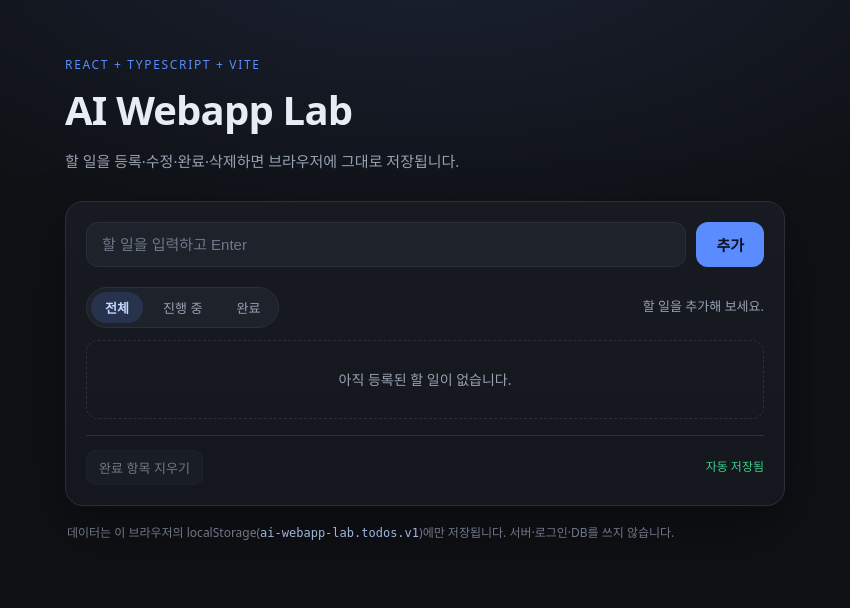
AI Webapp Lab — 할 일 관리 › 할 일을 삭제하면 목록과 localStorage에서 사라진다
Type "남길 일" into the field with test id "todo-input" at (386, 244), box [86,222,686,266]
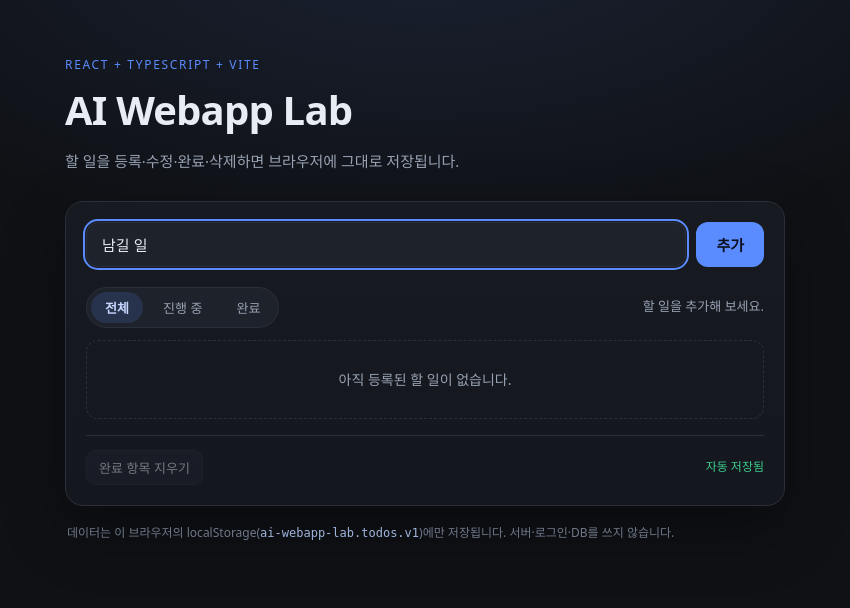
Click the button with test id "todo-add" at (730, 244), box [696,222,764,266]
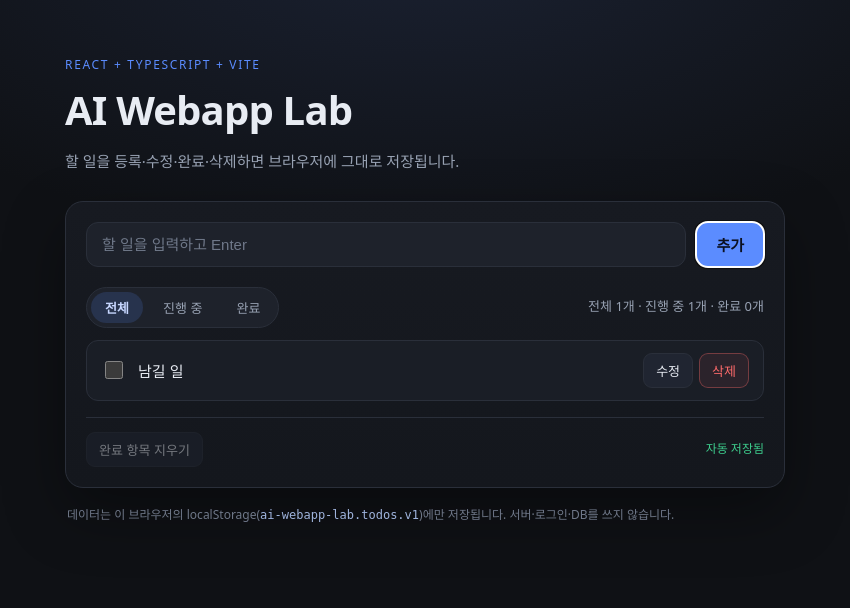
Type "지울 일" into the field with test id "todo-input" at (386, 244), box [86,222,686,266]
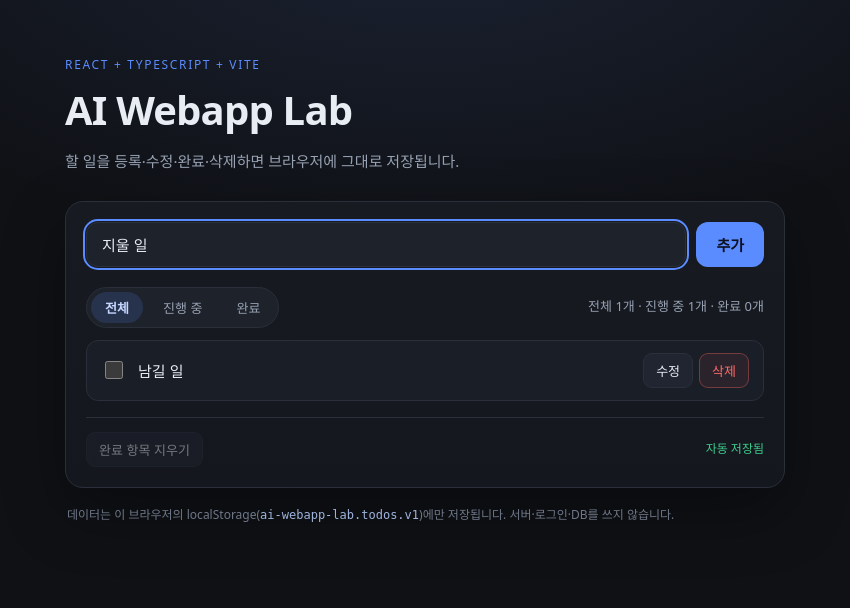
Click the button with test id "todo-add" at (730, 244), box [696,222,764,266]
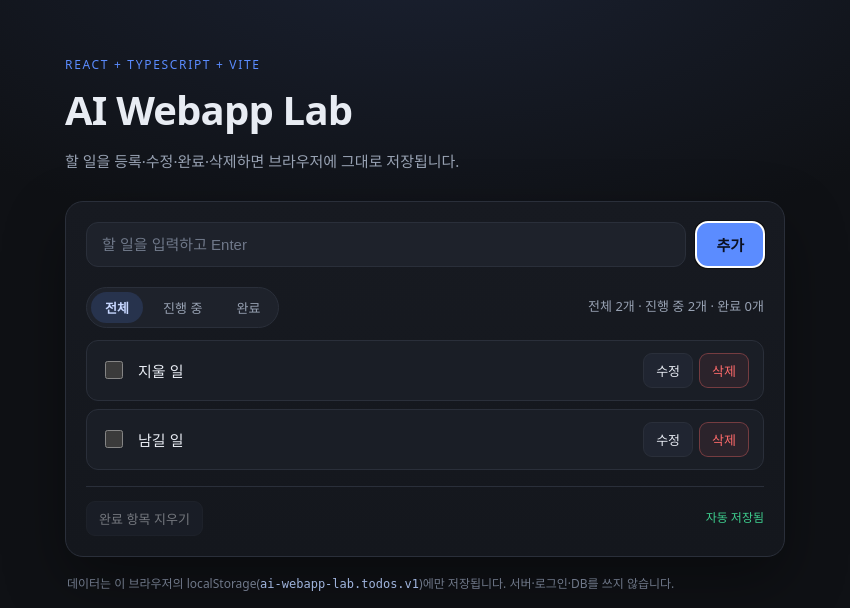
Expected: the list item "지울 일" is shown, [138,360,631,380]
Click the 1st button with test id "todo-delete" at (724, 370), box [699,352,749,388]
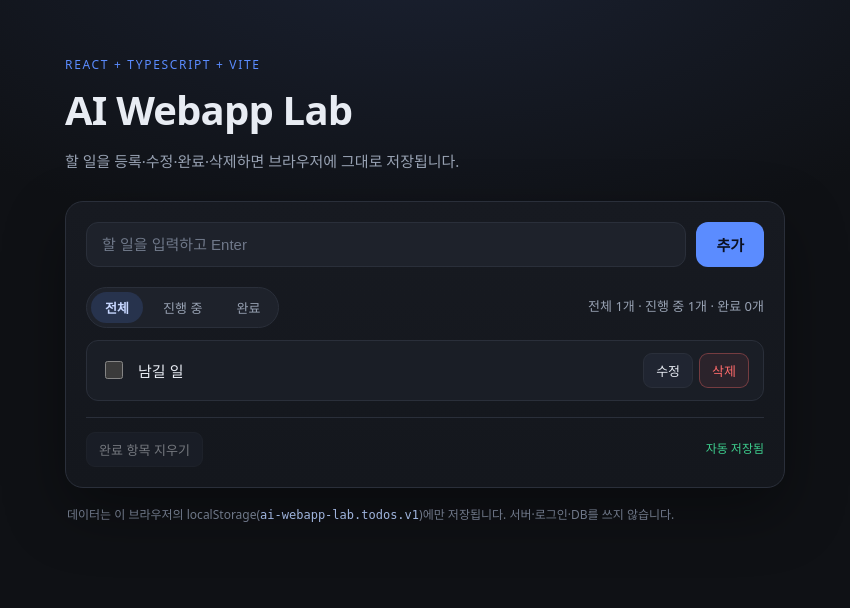
Expected: the button "지울 일" is gone
